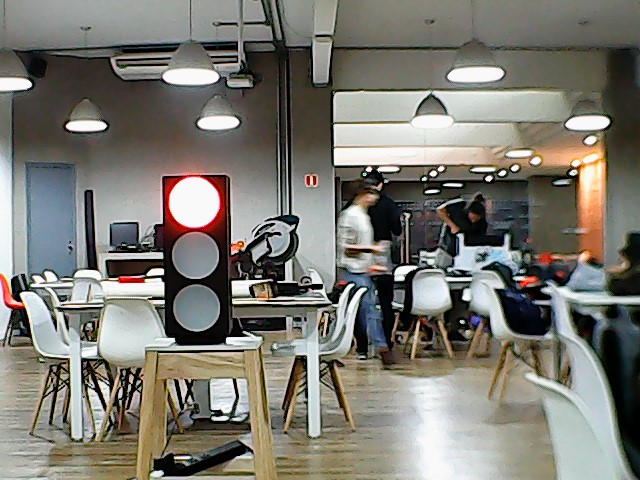vermelho: (158, 173, 237, 344)
